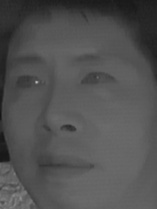eye: (81, 68, 118, 91), (13, 70, 46, 93)
mouth: (34, 146, 95, 183)
